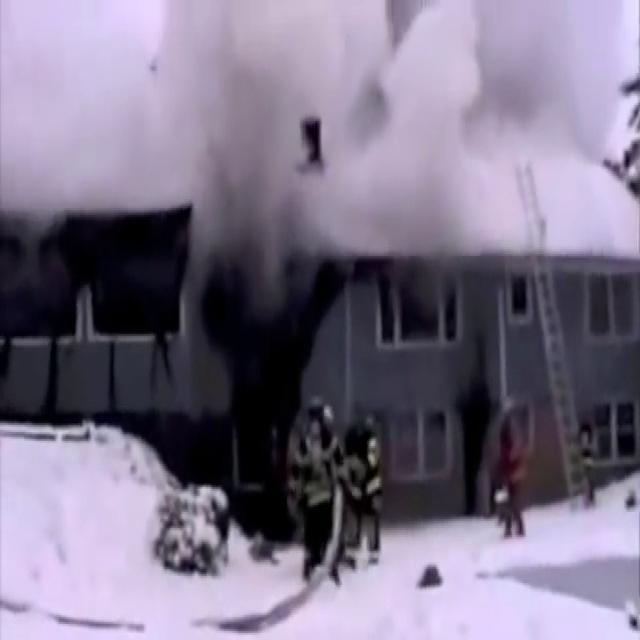Smoke: (308, 0, 624, 245), (172, 0, 318, 358)
